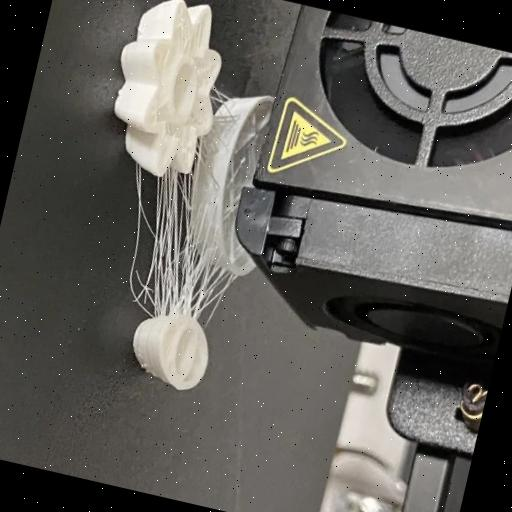stringing: (101, 153, 214, 324), (202, 80, 244, 113)
